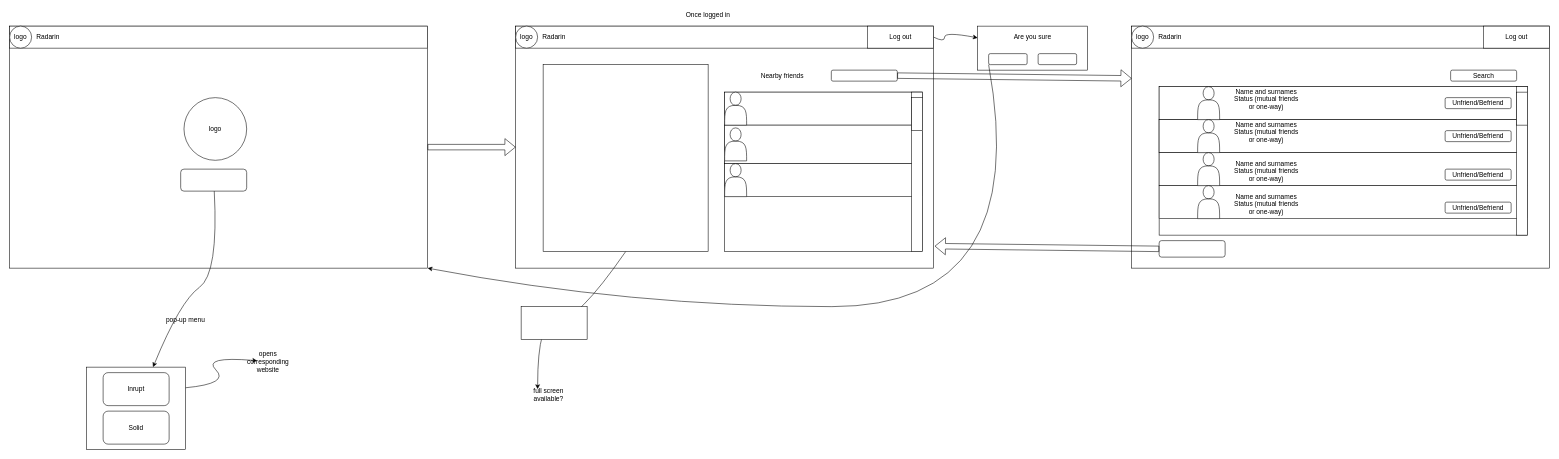
This 1559x459 diagram has some shape labels left out. Here are the shapes that lost their labels. From the top down, the box of each, then its label:
(831, 70, 897, 81): Friend List
(988, 53, 1027, 65): Yes
(1038, 53, 1077, 65): No
(543, 64, 708, 252): Map
(180, 169, 247, 191): Log In
(1159, 240, 1225, 257): Back
